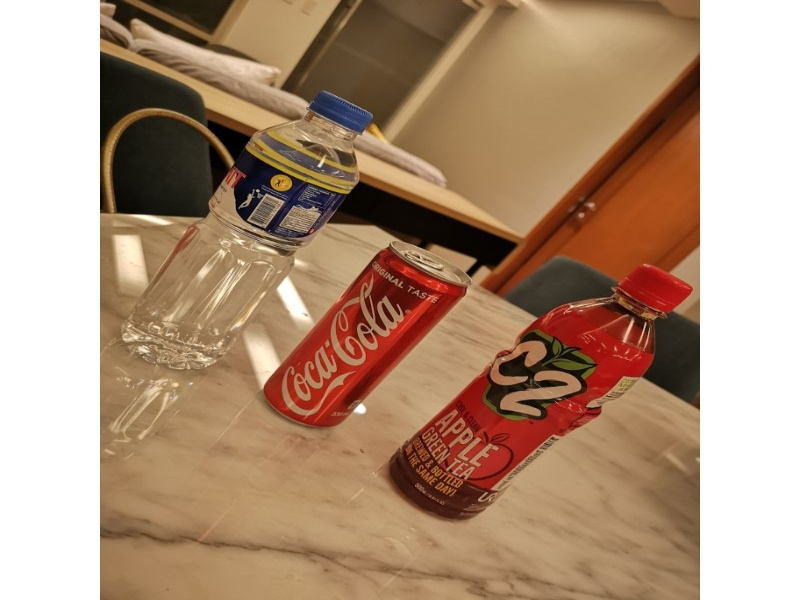PET #1: (394, 260, 693, 527), (119, 85, 370, 373)
